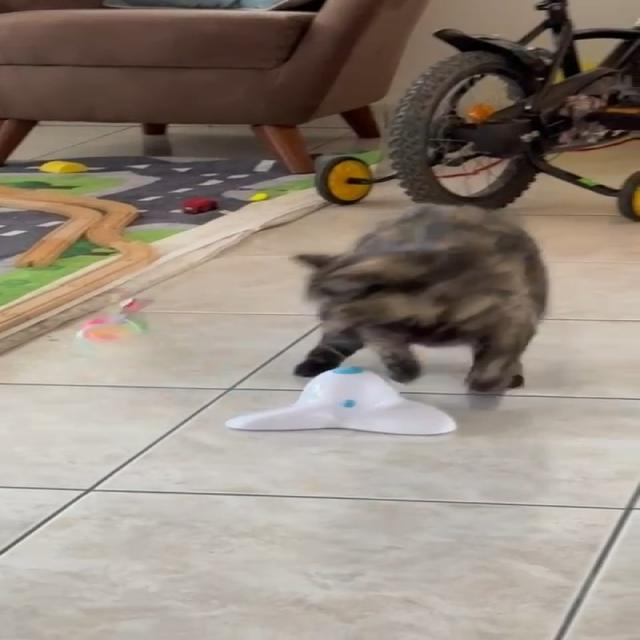authorized: (289, 202, 548, 408)
